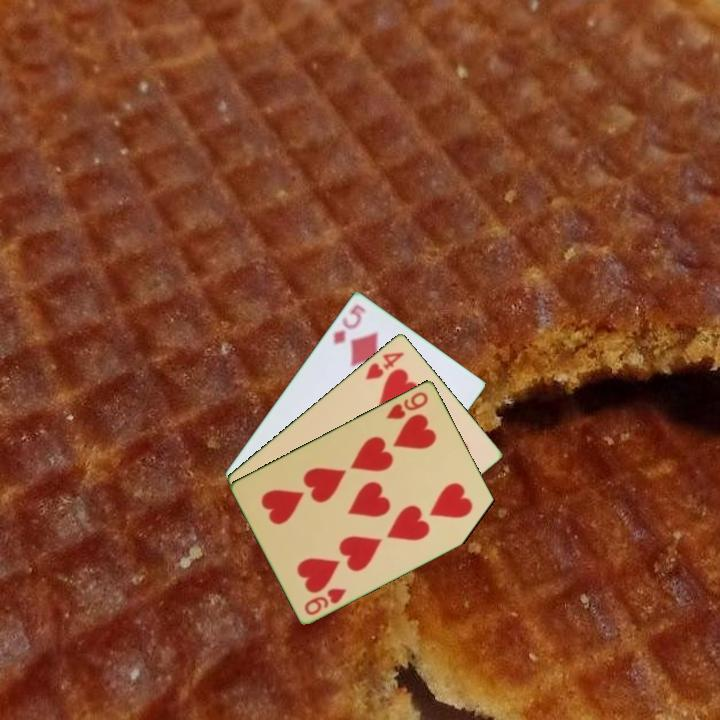4h: (362, 348, 407, 383)
5d: (329, 300, 369, 347)
9h: (382, 388, 431, 422), (301, 584, 349, 618)
